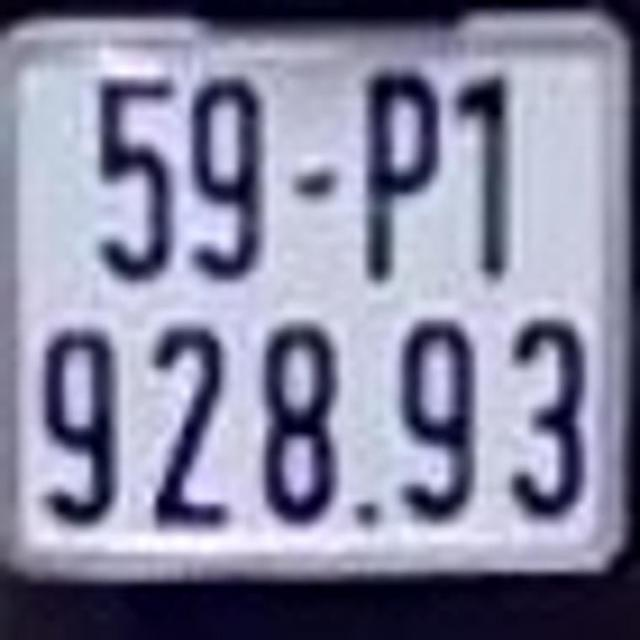1: (450, 60, 530, 282)
2: (146, 317, 232, 530)
3: (504, 297, 593, 524)
5: (91, 68, 178, 282)
8: (257, 311, 341, 526)
9: (392, 293, 484, 525), (186, 62, 270, 284), (38, 323, 120, 527)
P: (356, 56, 445, 288)
